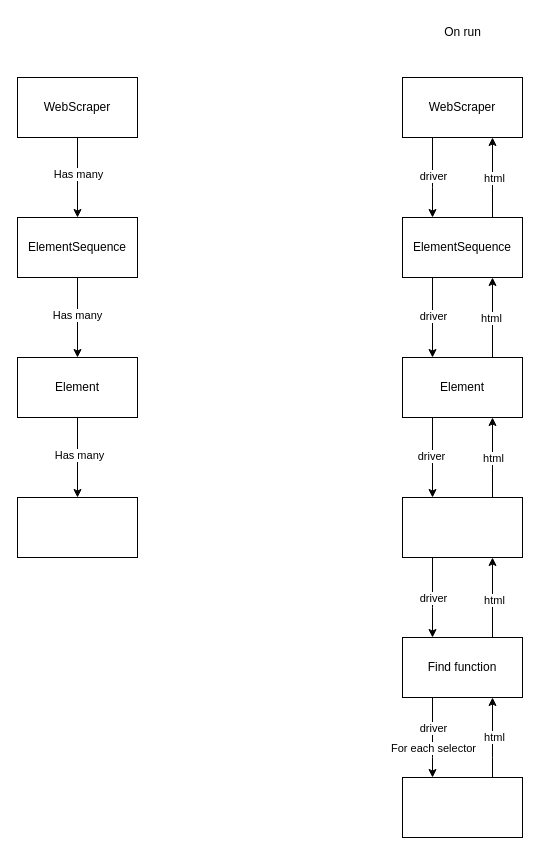
This 540x855 diagram has some shape labels left out. The centre of each missing label's shape, as x and y in pixels:
"Run function" belongs at point (462, 527).
"Selector" belongs at point (77, 527).
"Wait for element function" belongs at point (462, 807).
